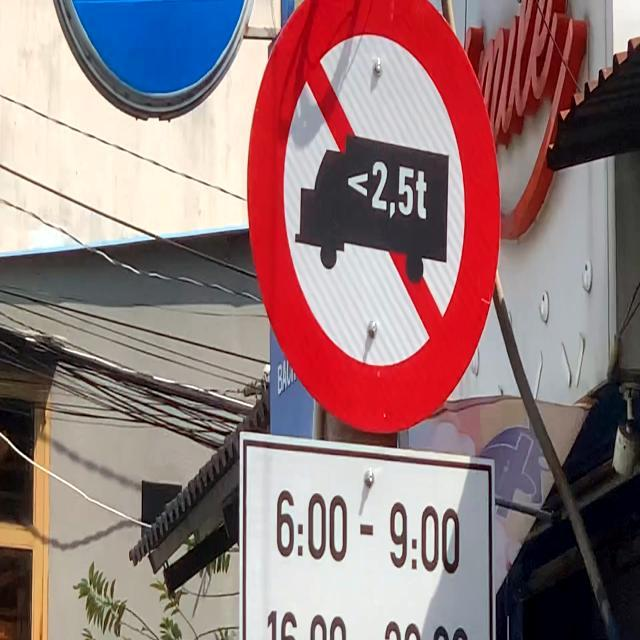Cam xe tai tren 2_5: (246, 0, 503, 437)
